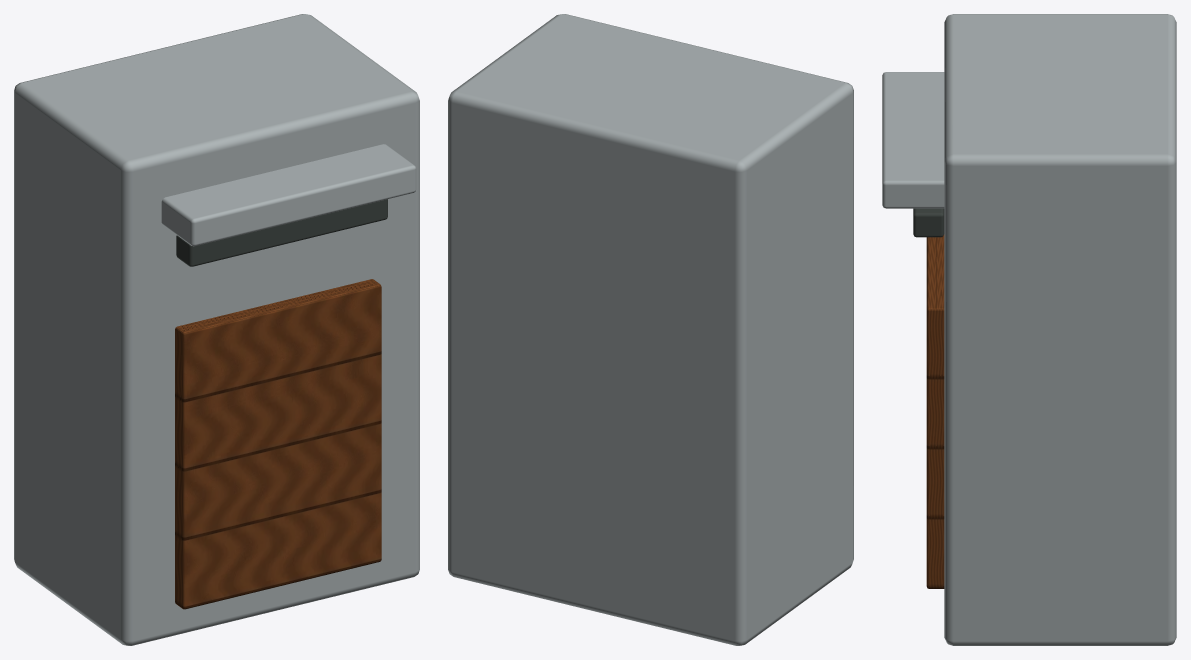
3 views of the same model, side by side, from view 1: azimuth 30°, elevation 25°; view 2: azimuth 150°, elevation 25°; view 3: azimuth 270°, elevation 25° (orthographic).
Parts seen in each view (by area): view 1: secure-drop-slot; view 2: secure-drop-slot; view 3: secure-drop-slot.
Boxes of the visible parts, bbox=[...] form: secure-drop-slot: bbox=[14, 14, 419, 645]; secure-drop-slot: bbox=[448, 14, 853, 645]; secure-drop-slot: bbox=[882, 14, 1176, 645].
Size of the model in its own units: 0.45 by 0.7 by 0.38.
3 materials, 1 textured.
